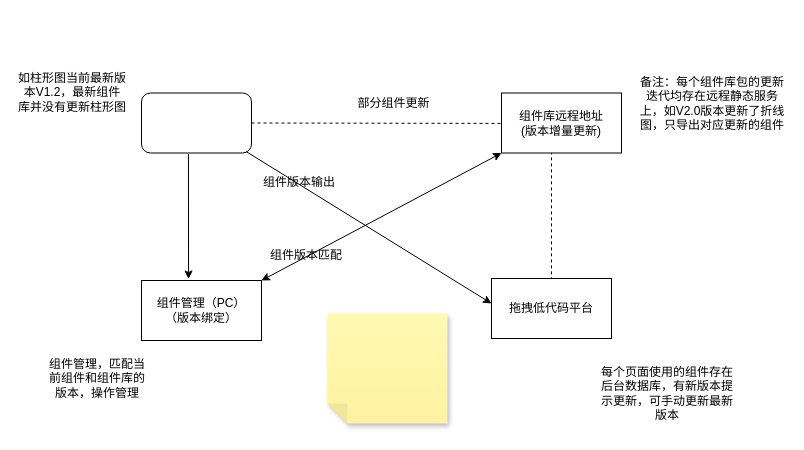
The diagram is 804 pixels wide and 450 high, and some of its shapes have lost their labels. Each missing label, with the centre of its shape:
"参考easyV版本概念，个人总结的一套组件管理机制匹配" belongs at (388,369).
"插拔式组件 (每个版本单独管理)" belongs at (196,122).
